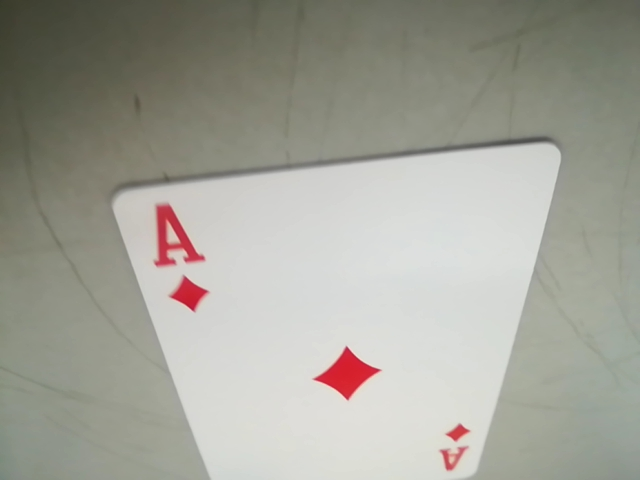fk a: (144, 194, 207, 291), (434, 418, 479, 477)
